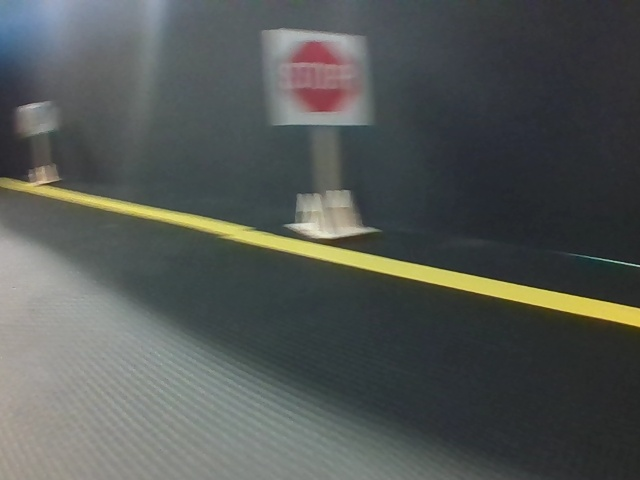no30: (21, 104, 52, 132)
stop: (271, 33, 371, 128)
